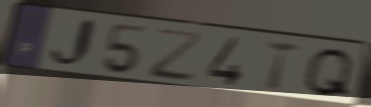4: (205, 36, 244, 87)
5: (101, 20, 149, 76)
J: (47, 16, 100, 71)
Q: (300, 46, 358, 102)
T: (263, 38, 304, 94)
Z: (148, 27, 207, 84)
